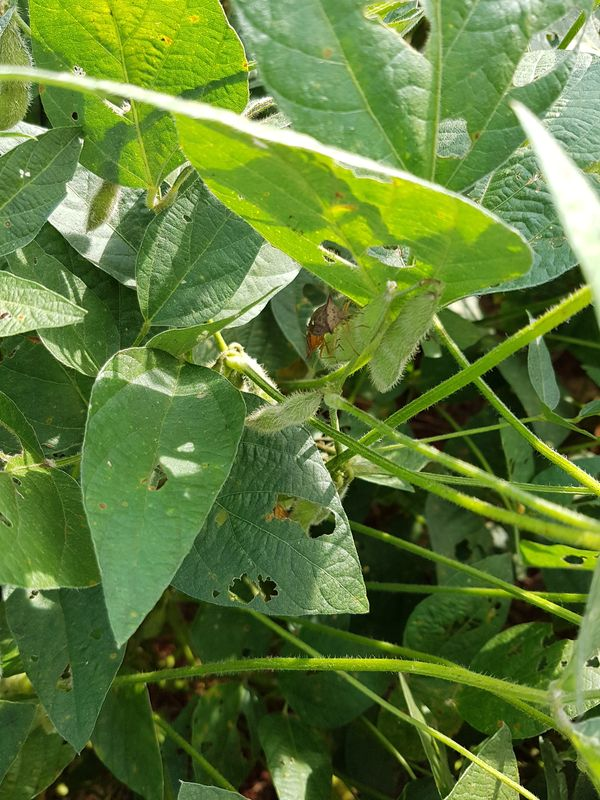Euschistus_heros_adulto: (305, 288, 370, 335), (298, 332, 350, 366)
